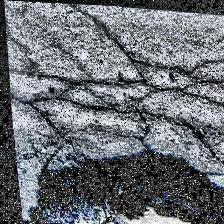pothole: (14, 128, 224, 224)
